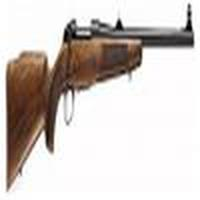gun: (5, 20, 194, 182)
